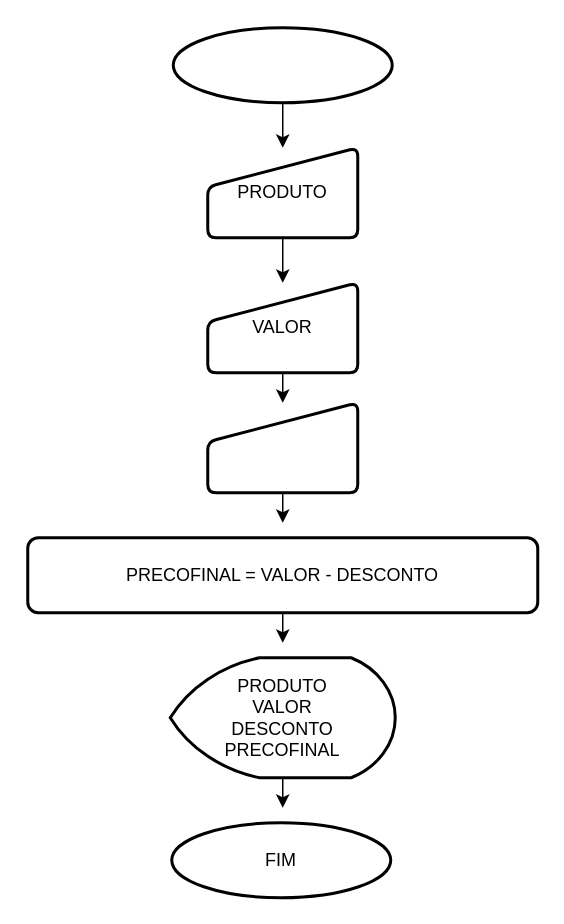
The diagram is 564 pixels wide and 924 high, and some of its shapes have lost their labels. Here are the shapes that lost their labels. From the top down, the centre of each, then its label:
At [282,65]: "INICIO".
At [282,447]: "DESCONTO".
